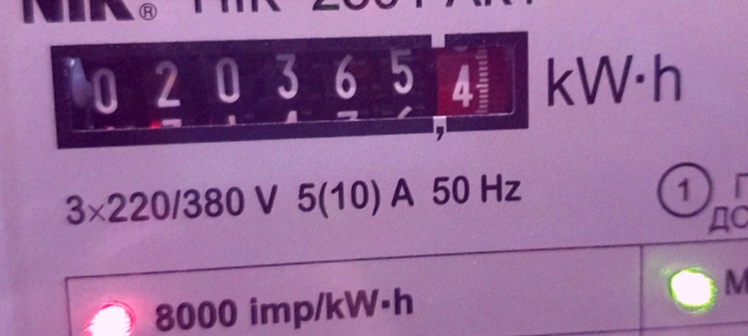0: (86, 61, 121, 116), (212, 53, 243, 104)
2: (150, 56, 182, 107)
3: (271, 49, 301, 100)
4: (448, 58, 473, 107)
5: (388, 46, 416, 93)
6: (330, 48, 357, 99)
screen: (35, 10, 547, 164)
